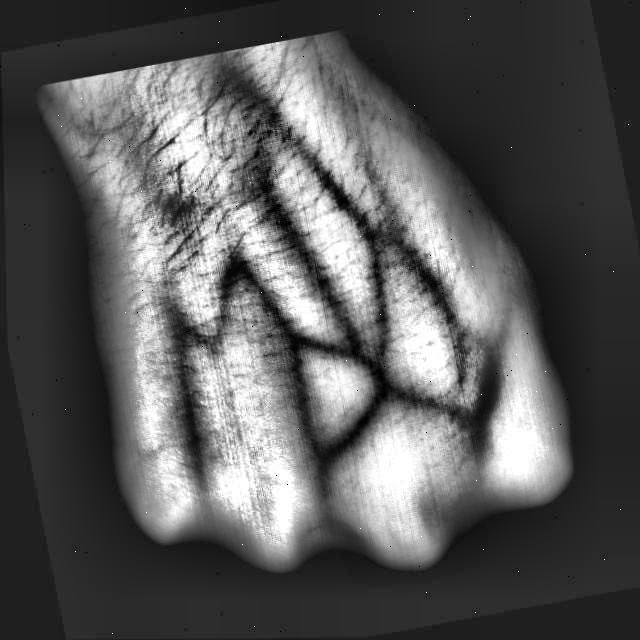Vein: (234, 68, 375, 234), (251, 178, 356, 324)
